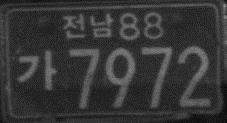2: (177, 44, 210, 110)
7: (137, 45, 175, 109), (66, 46, 99, 110)
8: (119, 11, 140, 41), (143, 11, 164, 40)
9: (103, 46, 136, 112)
가: (16, 48, 57, 92)
전남_O: (61, 12, 115, 39)
